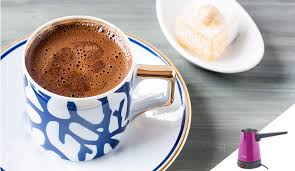kahve: (24, 16, 177, 162)
